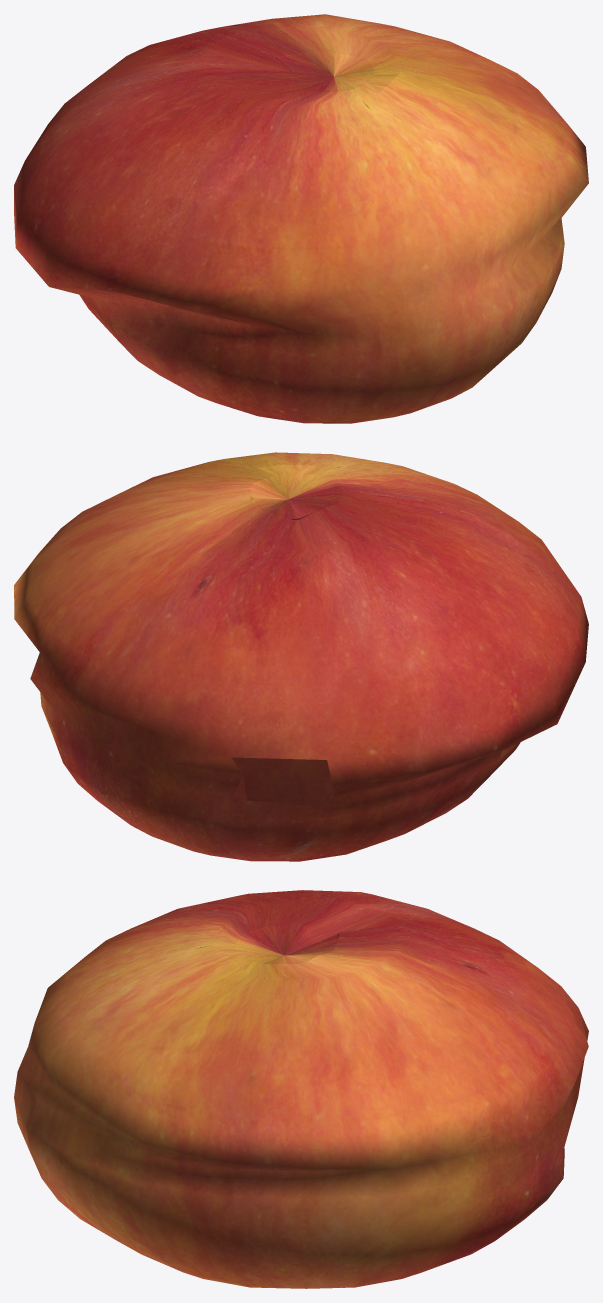
Rendered from apple.obj.
The picture shows the model from 3 angles, top to bottom: view 1: azimuth 30°, elevation 25°; view 2: azimuth 150°, elevation 25°; view 3: azimuth 270°, elevation 25°; orthographic projection.
Parts seen in each view (by area): view 1: apple:pSphere1; view 2: apple:pSphere1; view 3: apple:pSphere1.
Boxes of the visible parts, x1,y1,x2,y2 form: apple:pSphere1: (14,14,588,423); apple:pSphere1: (14,452,588,861); apple:pSphere1: (14,890,588,1288).
Bounding box in the file's own units: 2.32 × 1.4 × 2.28.
Materials: 1 (1 with a texture image).
